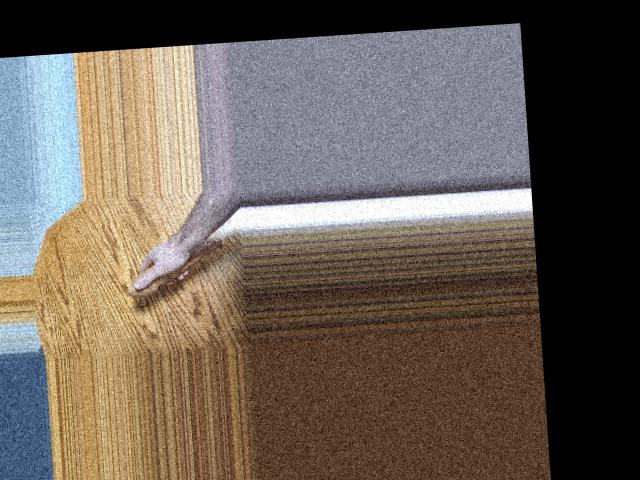sweet_potato: (128, 235, 228, 295)
